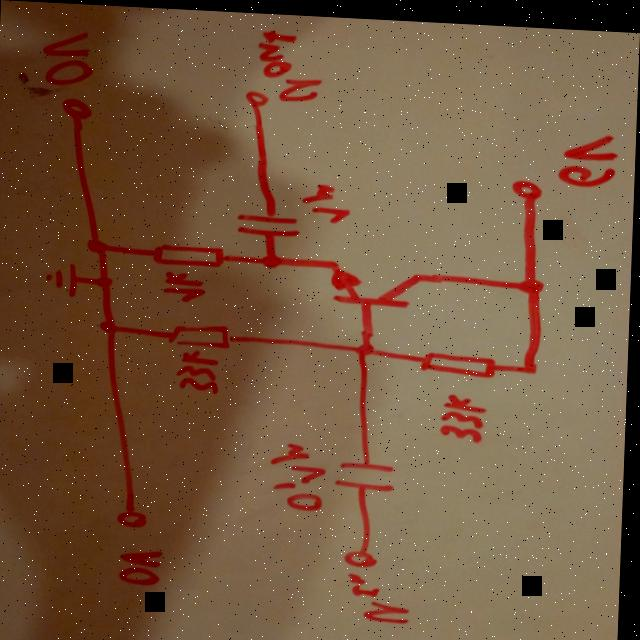capacitor: (331, 446, 407, 500), (230, 202, 308, 241)
ground: (38, 255, 88, 302)
junction: (517, 270, 551, 295), (349, 336, 383, 359), (86, 236, 118, 260), (96, 316, 126, 341), (260, 248, 287, 272), (94, 271, 121, 292), (518, 356, 546, 375)
resistor: (414, 341, 505, 378), (144, 236, 236, 270), (158, 320, 246, 350)
terminal: (506, 166, 553, 203), (57, 95, 98, 125), (341, 542, 386, 568), (114, 505, 157, 532), (240, 85, 275, 111)
text: (255, 26, 329, 105), (268, 435, 338, 514), (344, 566, 421, 626), (32, 26, 101, 91), (553, 125, 626, 186), (438, 384, 495, 443), (171, 346, 231, 398), (300, 178, 360, 224), (117, 545, 174, 591), (157, 267, 212, 304)
transistor: (318, 250, 428, 312)
